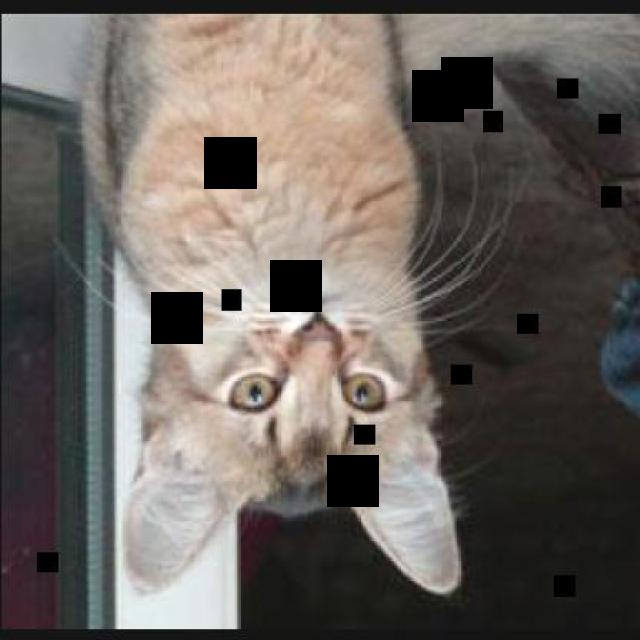unauthorized: (70, 12, 638, 597)
